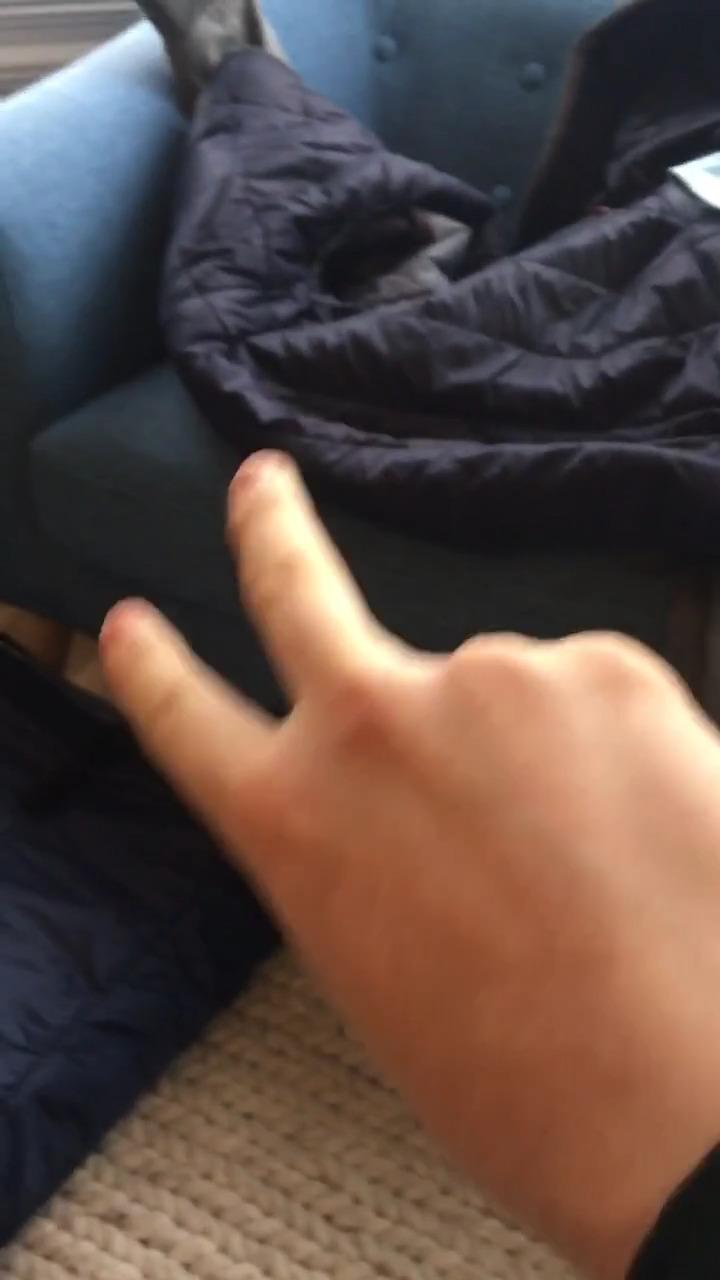Scissors: (102, 446, 720, 1182)
